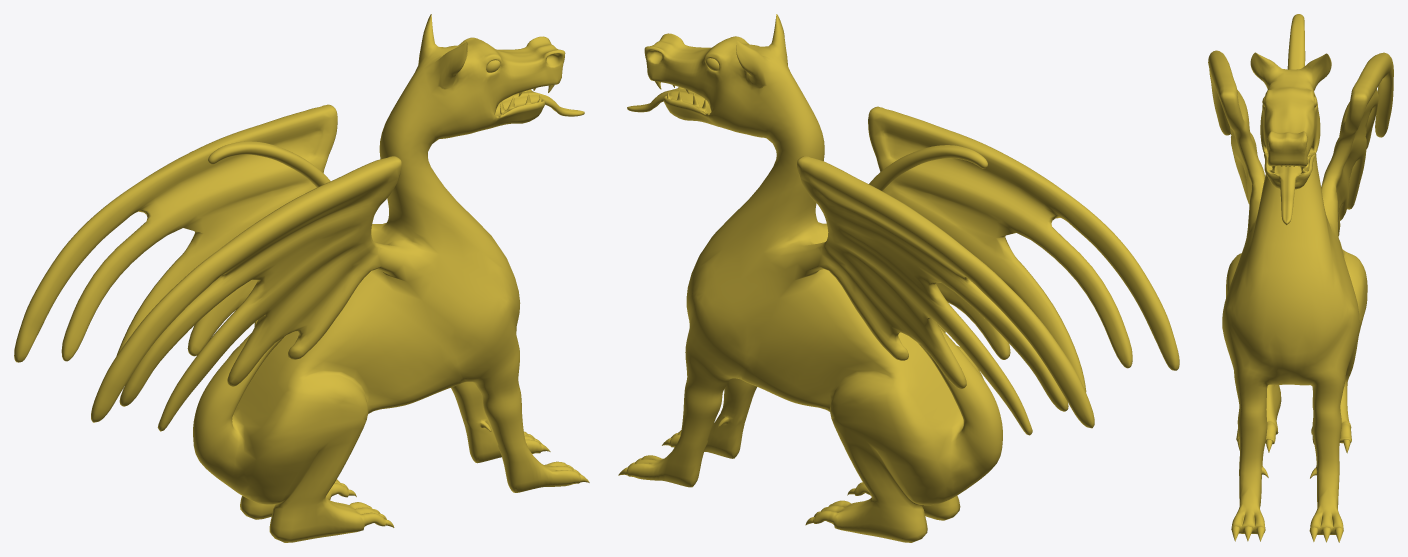
The model's file is Dragon.fbx.
3 views of the same model, side by side, from view 1: azimuth 30°, elevation 25°; view 2: azimuth 150°, elevation 25°; view 3: azimuth 270°, elevation 25° (orthographic). The views are drawn at different scales.
Visible parts, largest first — view 1: Dragon; view 2: Dragon; view 3: Dragon.
Boxes of the visible parts, x1,y1,x2,y2 form: Dragon: (14, 14, 589, 542); Dragon: (618, 14, 1179, 542); Dragon: (1208, 14, 1393, 542).
Size of the model in its own units: 246 by 207 by 79.48.
